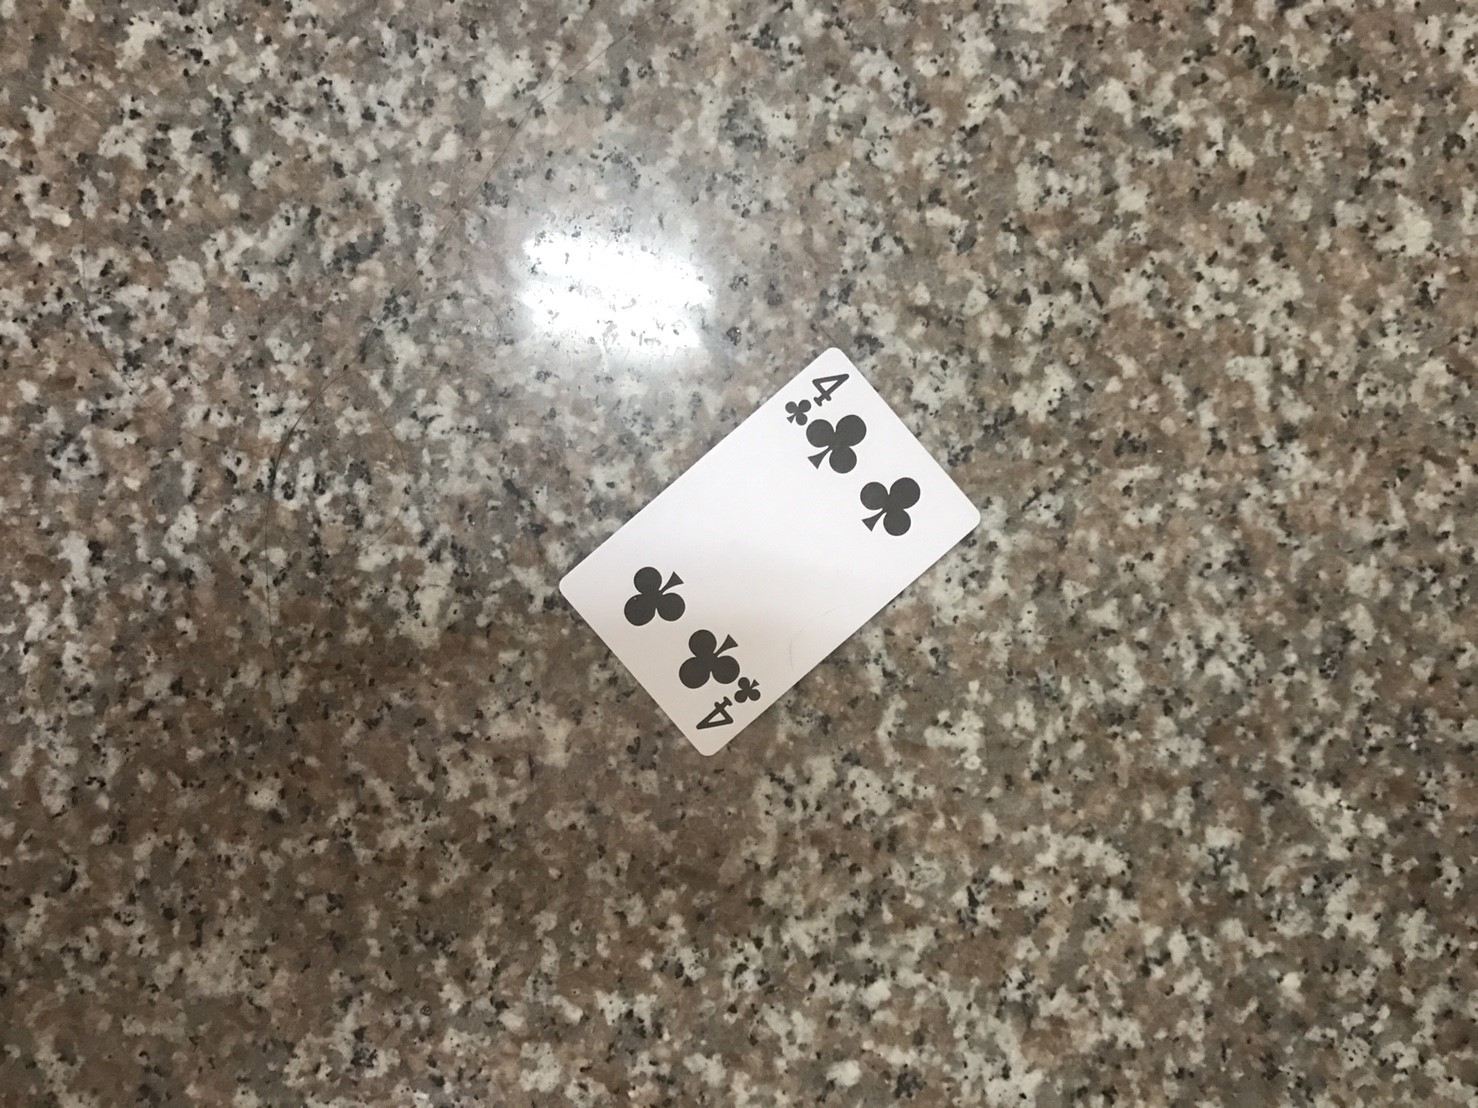clubs: (618, 559, 692, 633), (857, 473, 925, 544), (675, 623, 745, 689), (806, 412, 871, 476), (779, 389, 816, 426), (734, 673, 766, 708)
